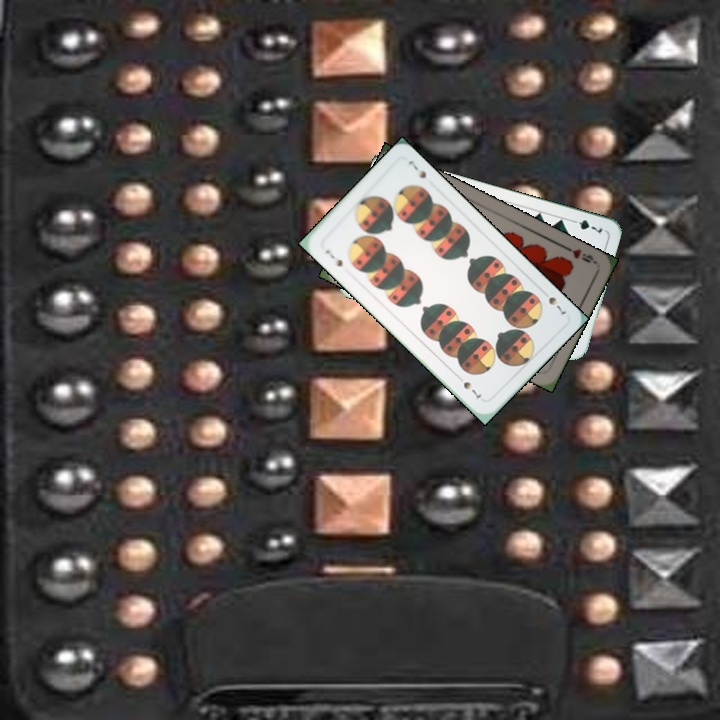G7: (566, 215, 605, 237)
H9: (560, 242, 598, 266)
S7: (537, 286, 569, 317), (321, 246, 345, 269)
